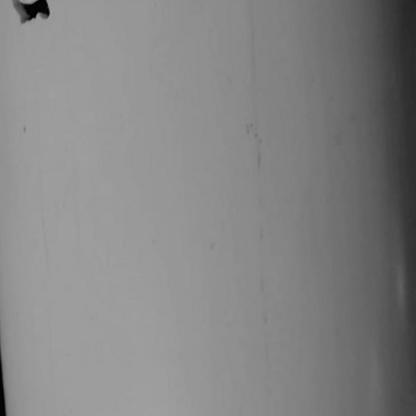kongdong: (3, 1, 63, 25)
